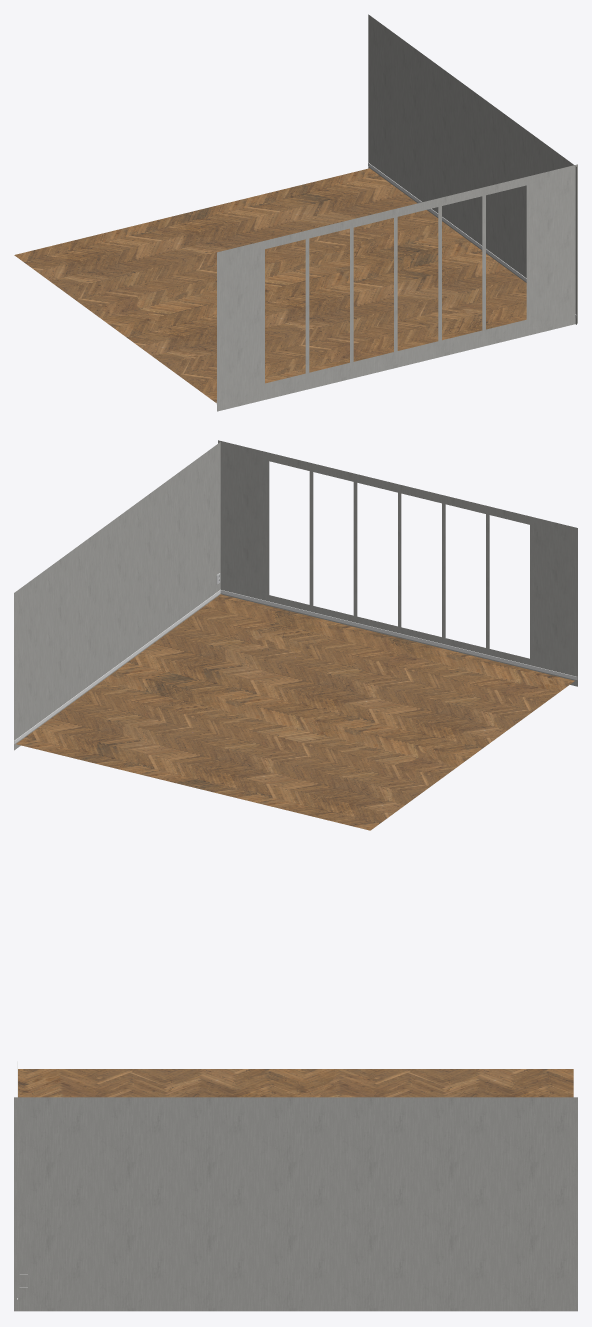
The model's file is room.glb.
3 views of the same model, one above another, from view 1: azimuth 30°, elevation 25°; view 2: azimuth 150°, elevation 25°; view 3: azimuth 270°, elevation 25° (orthographic). The views are drawn at different scales.
Parts seen in each view (by area): view 1: Plane.040, Plane.042, Plane.057; view 2: Plane.040, Plane.057, Plane.042; view 3: Plane.057, Plane.040.
Part boxes in pixels (x1,y1,x2,y2): Plane.040: (14,168,526,402); Plane.042: (216,164,577,411); Plane.057: (368,14,576,324); Plane.040: (16,594,574,830); Plane.057: (14,442,220,750); Plane.042: (218,440,577,686); Plane.057: (14,1097,577,1311); Plane.040: (18,1069,573,1097).
Size of the model in its own units: 8.14 by 3.43 by 8.14.
4 materials, 3 textured.
